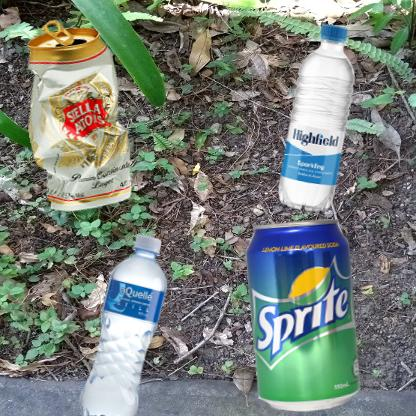botella: (10, 213, 249, 416), (213, 10, 416, 236)
lata: (213, 213, 395, 416), (10, 10, 151, 236)
